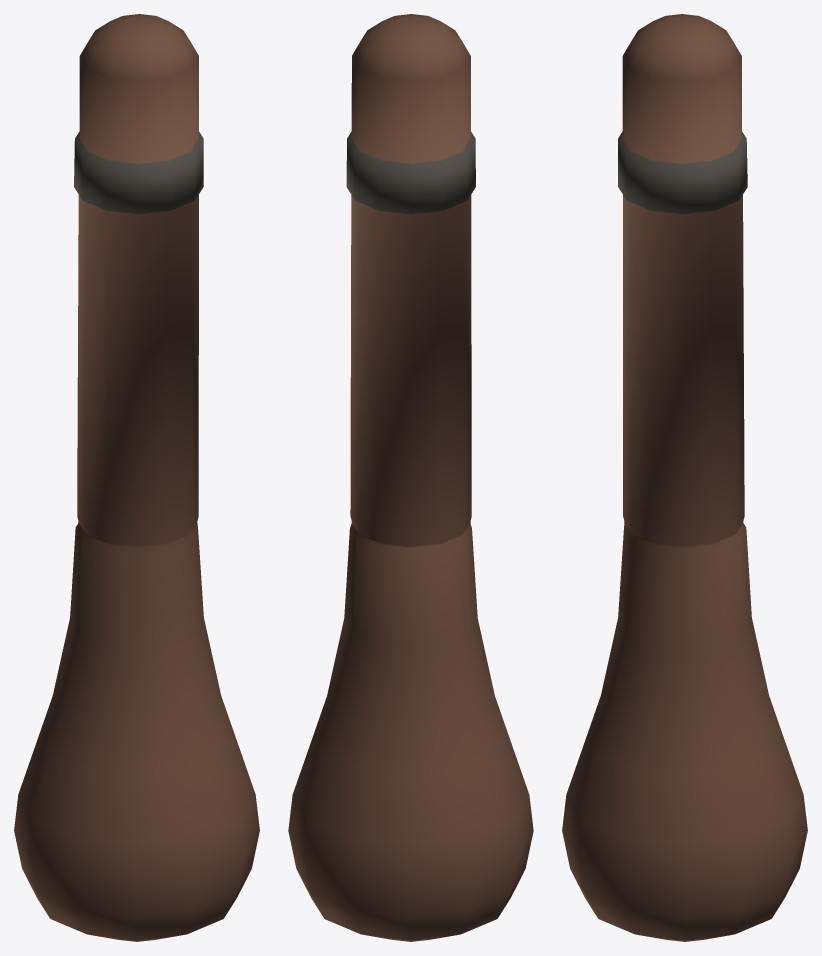
File: Pestle.fbx
3 views of the same model, side by side, from view 1: azimuth 30°, elevation 25°; view 2: azimuth 150°, elevation 25°; view 3: azimuth 270°, elevation 25° (orthographic).
Visible parts, largest first — view 1: Pestle; view 2: Pestle; view 3: Pestle.
Part boxes in pixels (x1,y1,x2,y2): Pestle: [14, 14, 259, 941]; Pestle: [288, 14, 533, 941]; Pestle: [562, 14, 807, 941].
Size of what is drawn, in the model's own units: 9.35 by 37.91 by 9.35.
